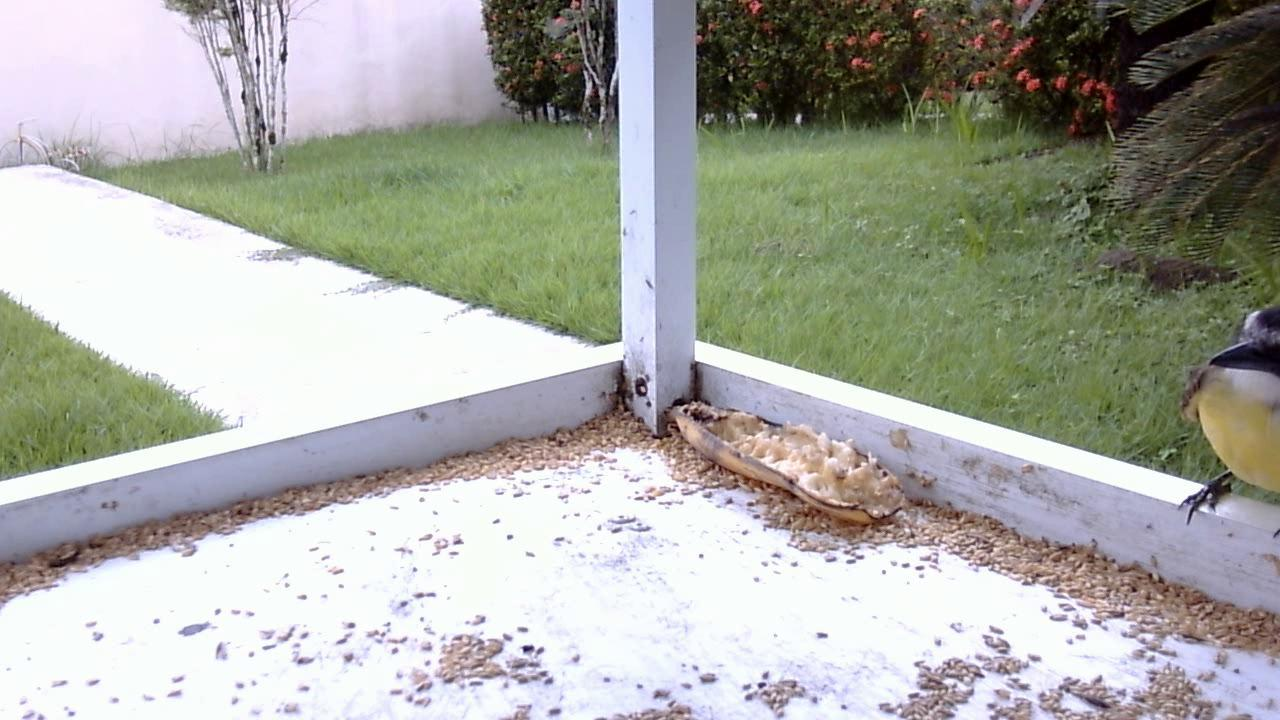bem_te_vi: (1170, 285, 1280, 548)
